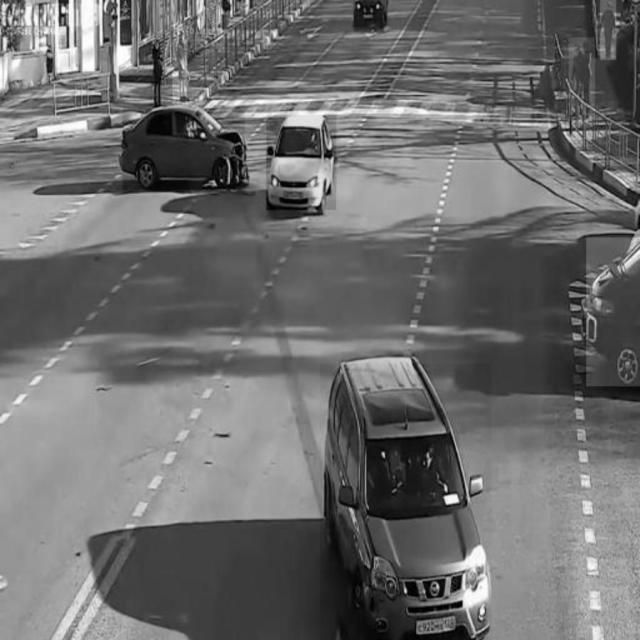person: (569, 38, 595, 115), (150, 33, 167, 105), (173, 26, 188, 104), (600, 0, 616, 60)
vehicle: (320, 364, 490, 640), (122, 105, 244, 189), (586, 238, 640, 386), (267, 116, 337, 210), (353, 1, 389, 27)
